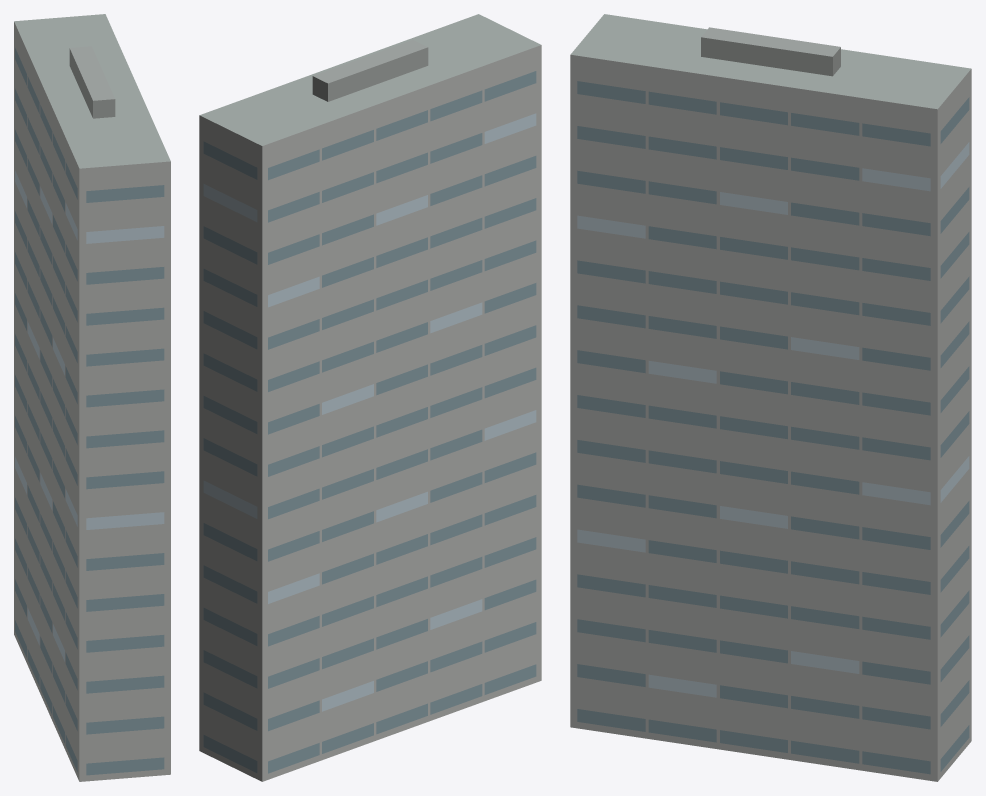
The model's file is fallback-jamsil-els-158.glb.
3 renders of one model, left to right at view 1: azimuth 30°, elevation 25°; view 2: azimuth 150°, elevation 25°; view 3: azimuth 270°, elevation 25°, orthographic. The views are drawn at different scales.
Visible parts, largest first — view 1: fallback-jamsil-els-158; view 2: fallback-jamsil-els-158; view 3: fallback-jamsil-els-158.
Boxes of the visible parts, bbox=[...] form: fallback-jamsil-els-158: bbox=[14, 14, 170, 781]; fallback-jamsil-els-158: bbox=[199, 14, 541, 781]; fallback-jamsil-els-158: bbox=[570, 14, 971, 781].
Bounding box in the file's own units: 25.09 × 85 × 44.64.
